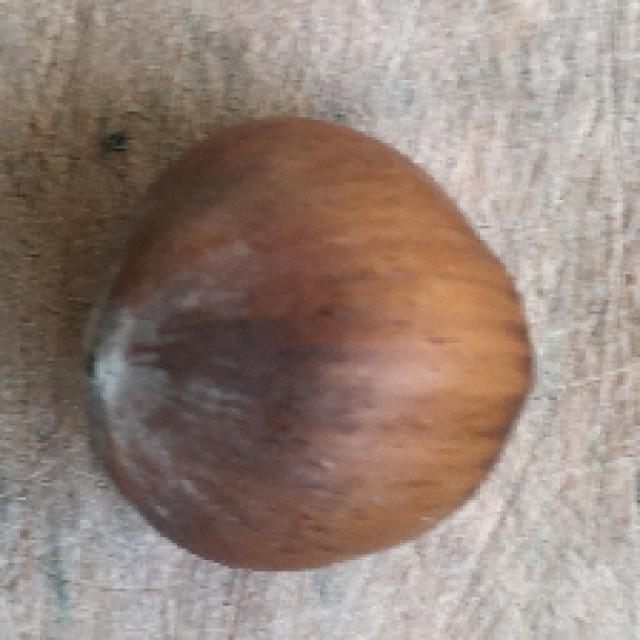qualityHazelnut: (79, 117, 549, 578)
